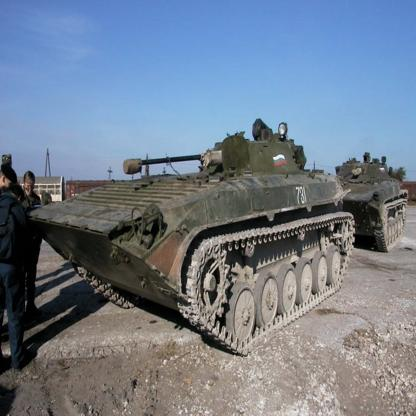Tank: (24, 119, 361, 359), (326, 145, 412, 258)
